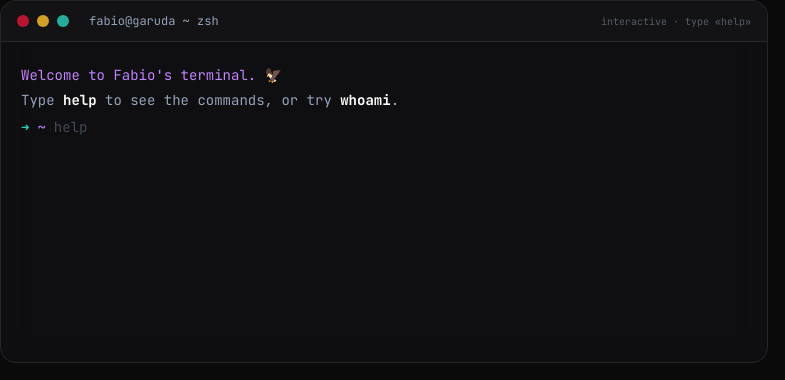
Test: Terminal — versione inglese › whoami usa il ruolo in inglese
Type "whoami" into the field named "Interactive terminal" at x=400, y=127, box x1=54 y1=116 x2=747 y2=138
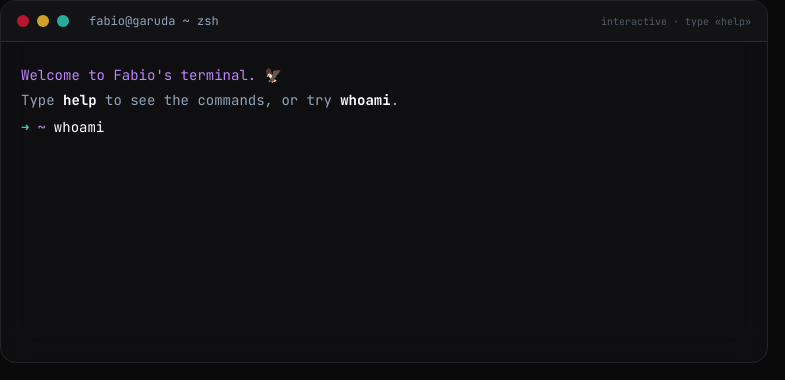
Press Enter in the field named "Interactive terminal", box x1=54 y1=116 x2=747 y2=138
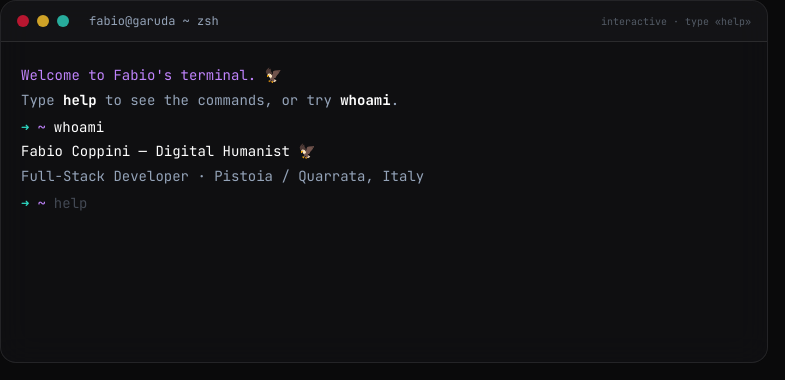
Result: the text "Fabio Coppini — Digital Humanist 🦅" is shown at x1=21 y1=142 x2=316 y2=160
